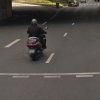Motorcycle: (22, 16, 50, 68)
